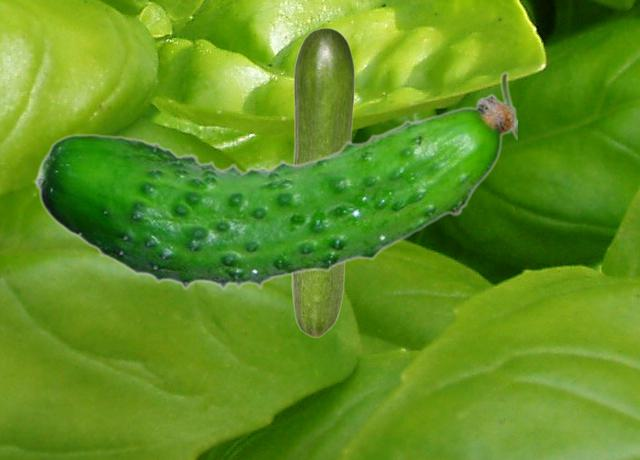cucumber: (32, 71, 516, 290), (291, 27, 354, 337)
